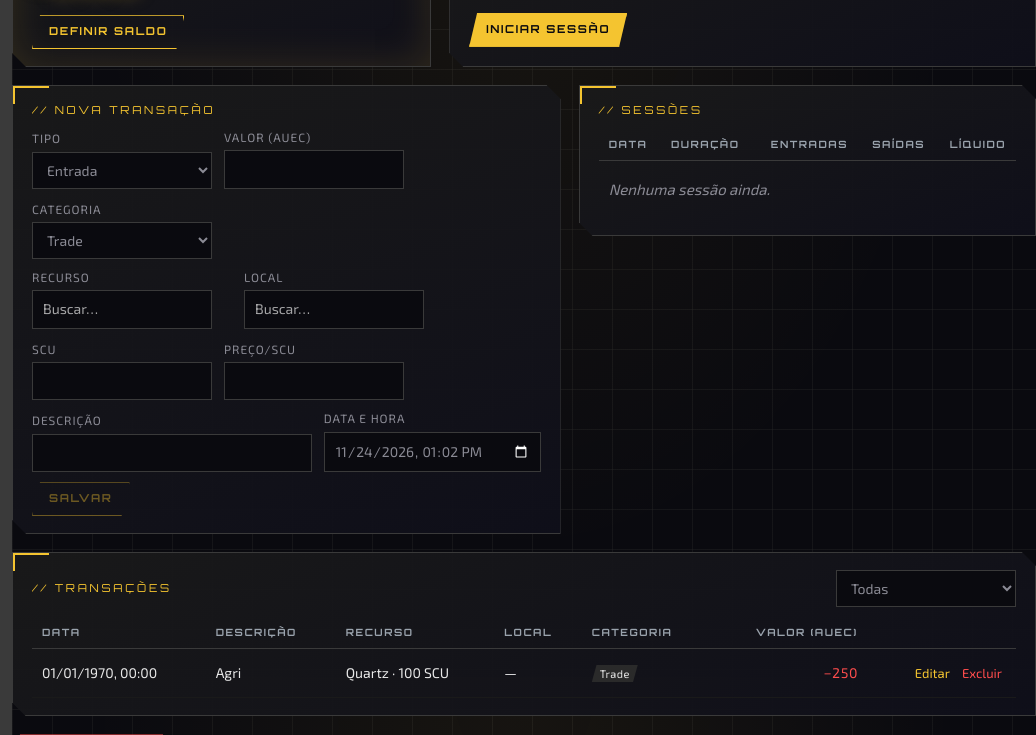
Scenario: editar transação › preço por SCU com decimais não é arredondado ao editar
(page scrolled)
Click the button with aria-label "Editar: Agri" at [932, 673], box [911, 656, 954, 690]
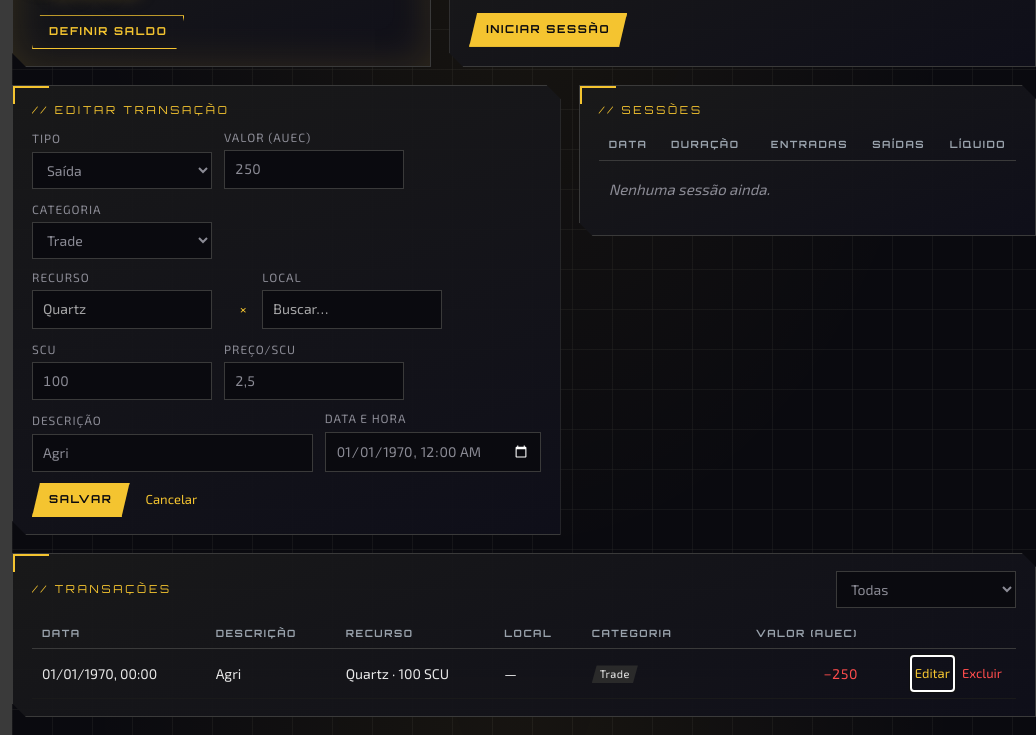
Now the field labelled "Preço/SCU" holds "2,5", box [224, 362, 404, 400]
Replace the text in the field labelled "SCU" with "10" at [122, 381], box [32, 362, 212, 400]
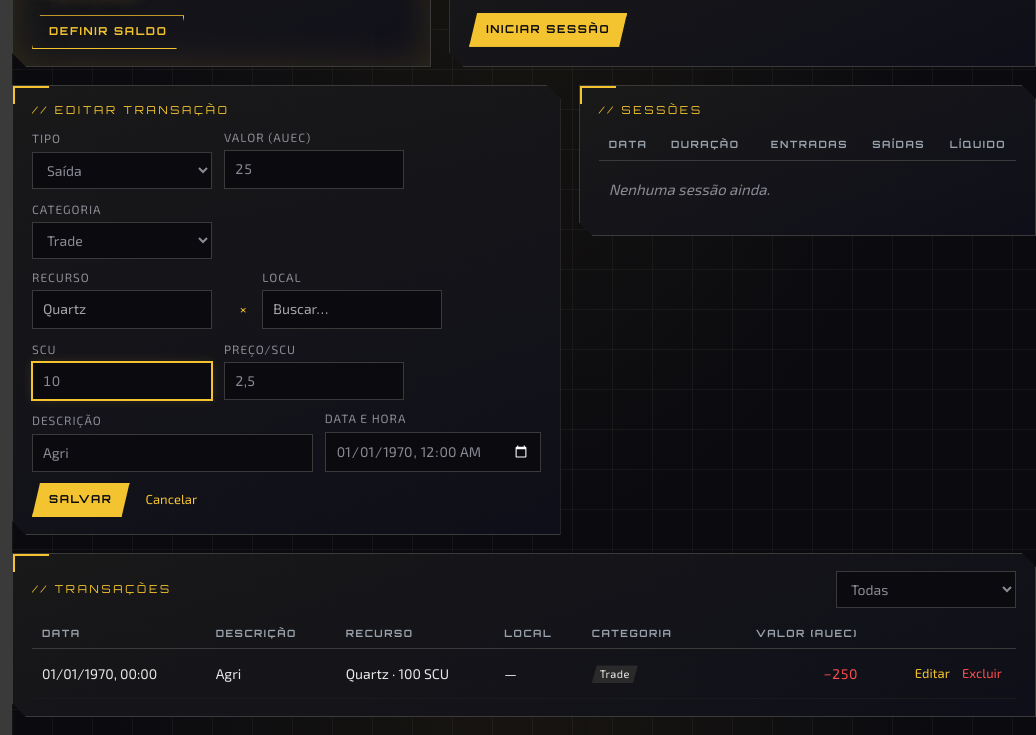
Now the field labelled "Valor (aUEC)" holds "25", box [224, 150, 404, 189]
